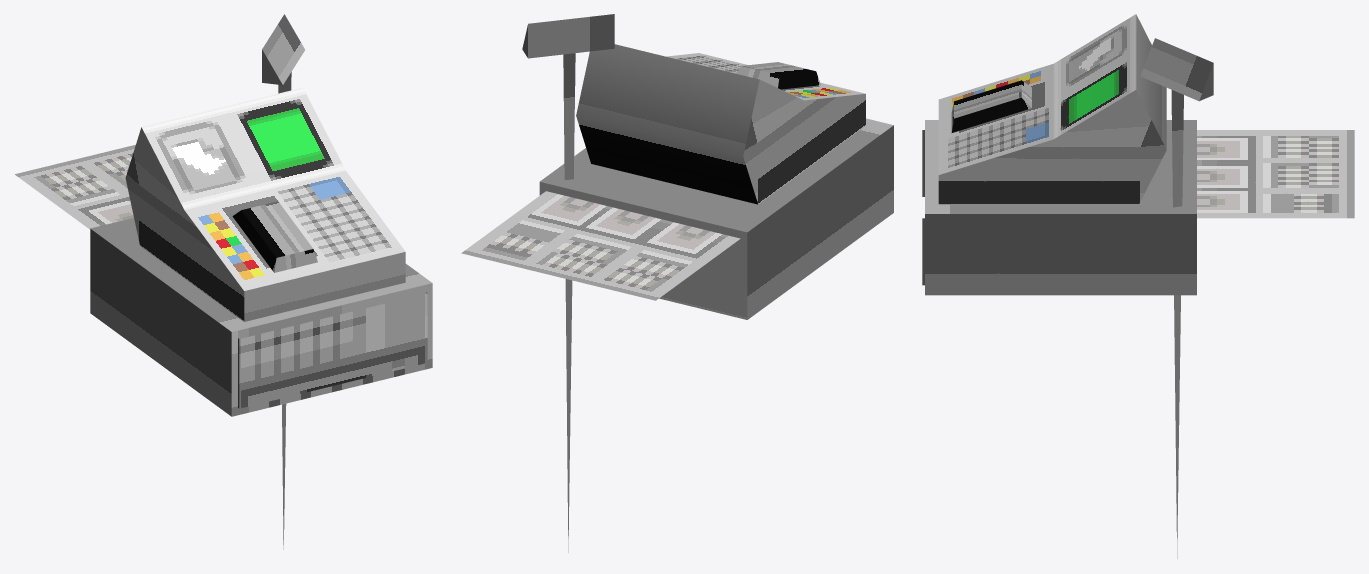
3 renders of one model, left to right at view 1: azimuth 30°, elevation 25°; view 2: azimuth 150°, elevation 25°; view 3: azimuth 270°, elevation 25°, orthographic. The views are drawn at different scales.
Parts seen in each view (by area): view 1: 3758kg_sh0_05; view 2: 3758kg_sh0_05; view 3: 3758kg_sh0_05.
Part boxes in pixels (x1=…): 3758kg_sh0_05: x1=15, y1=14, x2=432, y2=549; 3758kg_sh0_05: x1=461, y1=14, x2=893, y2=552; 3758kg_sh0_05: x1=922, y1=14, x2=1354, y2=558.
Size of the model in its own units: 0.7522 by 1.75 by 1.36.
Materials: 4 (4 with a texture image).
